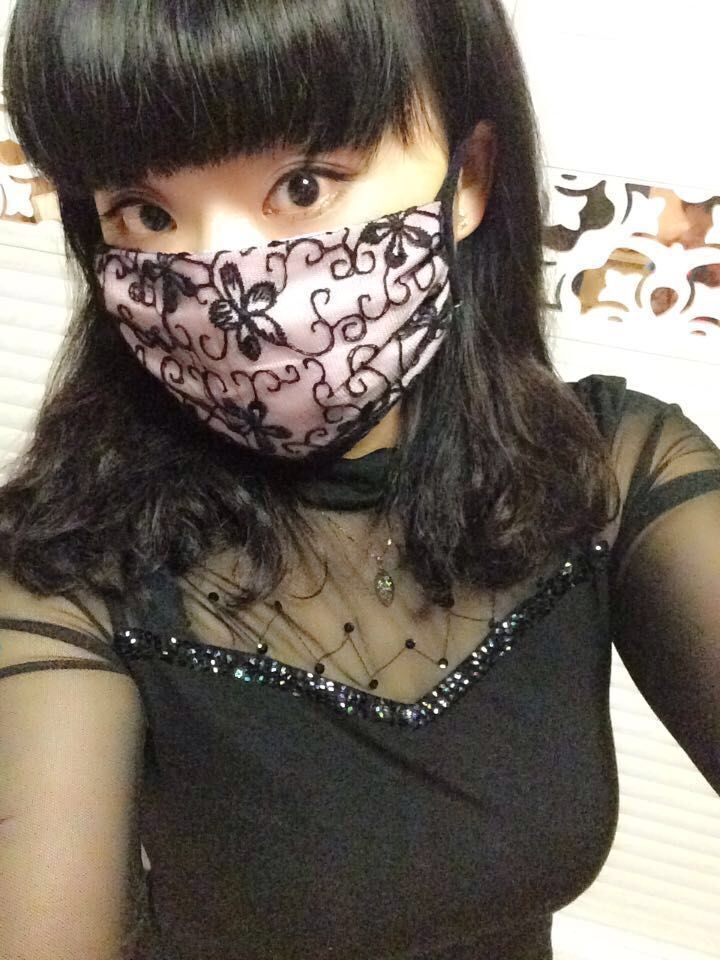face_mask: (99, 0, 433, 441)
